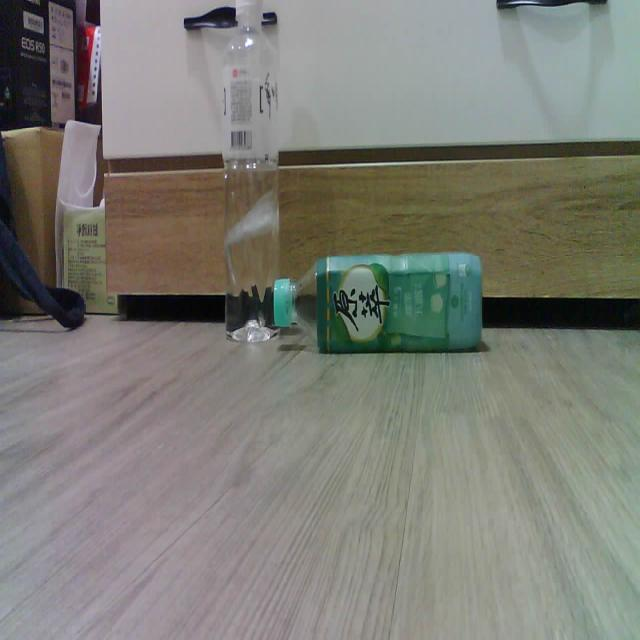bottle: (272, 253, 482, 352), (222, 0, 280, 341)
